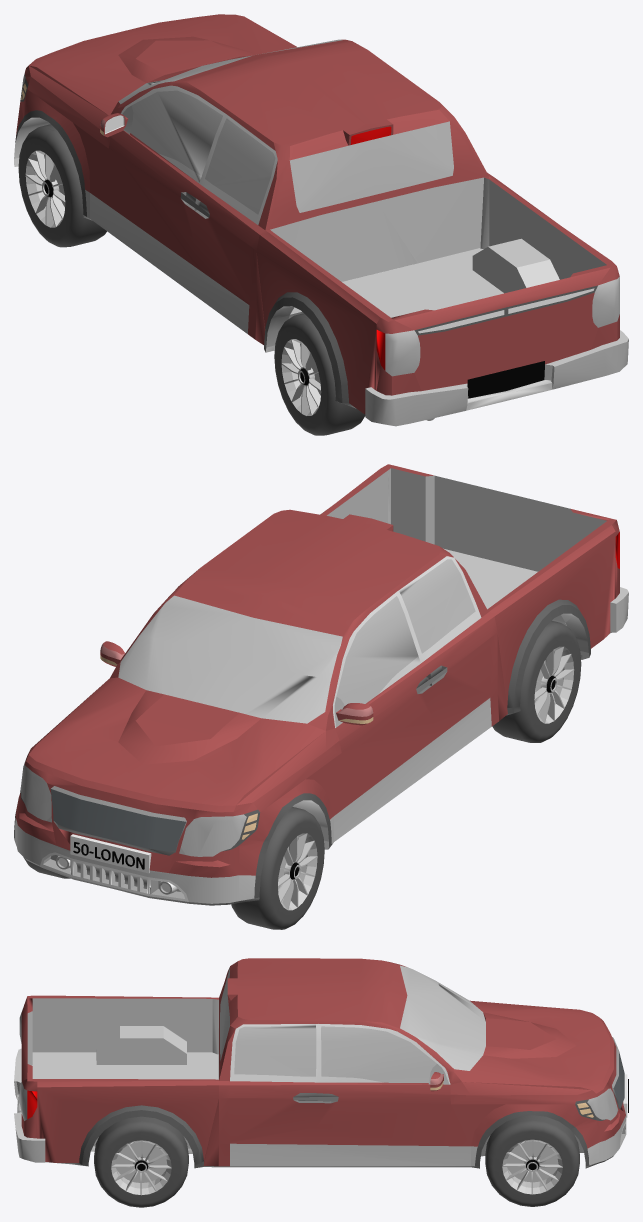
The model's file is Truck_A.fbx.
The picture shows the model from 3 angles, top to bottom: view 1: azimuth 30°, elevation 25°; view 2: azimuth 150°, elevation 25°; view 3: azimuth 270°, elevation 25°; orthographic projection. The views are drawn at different scales.
Visible parts, largest first — view 1: Truck_A; view 2: Truck_A; view 3: Truck_A.
Boxes of the visible parts, x1,y1,x2,y2 form: Truck_A: [14, 14, 628, 435]; Truck_A: [14, 464, 628, 929]; Truck_A: [14, 958, 628, 1207].
Size of the model in its own units: 177 by 147 by 459.
